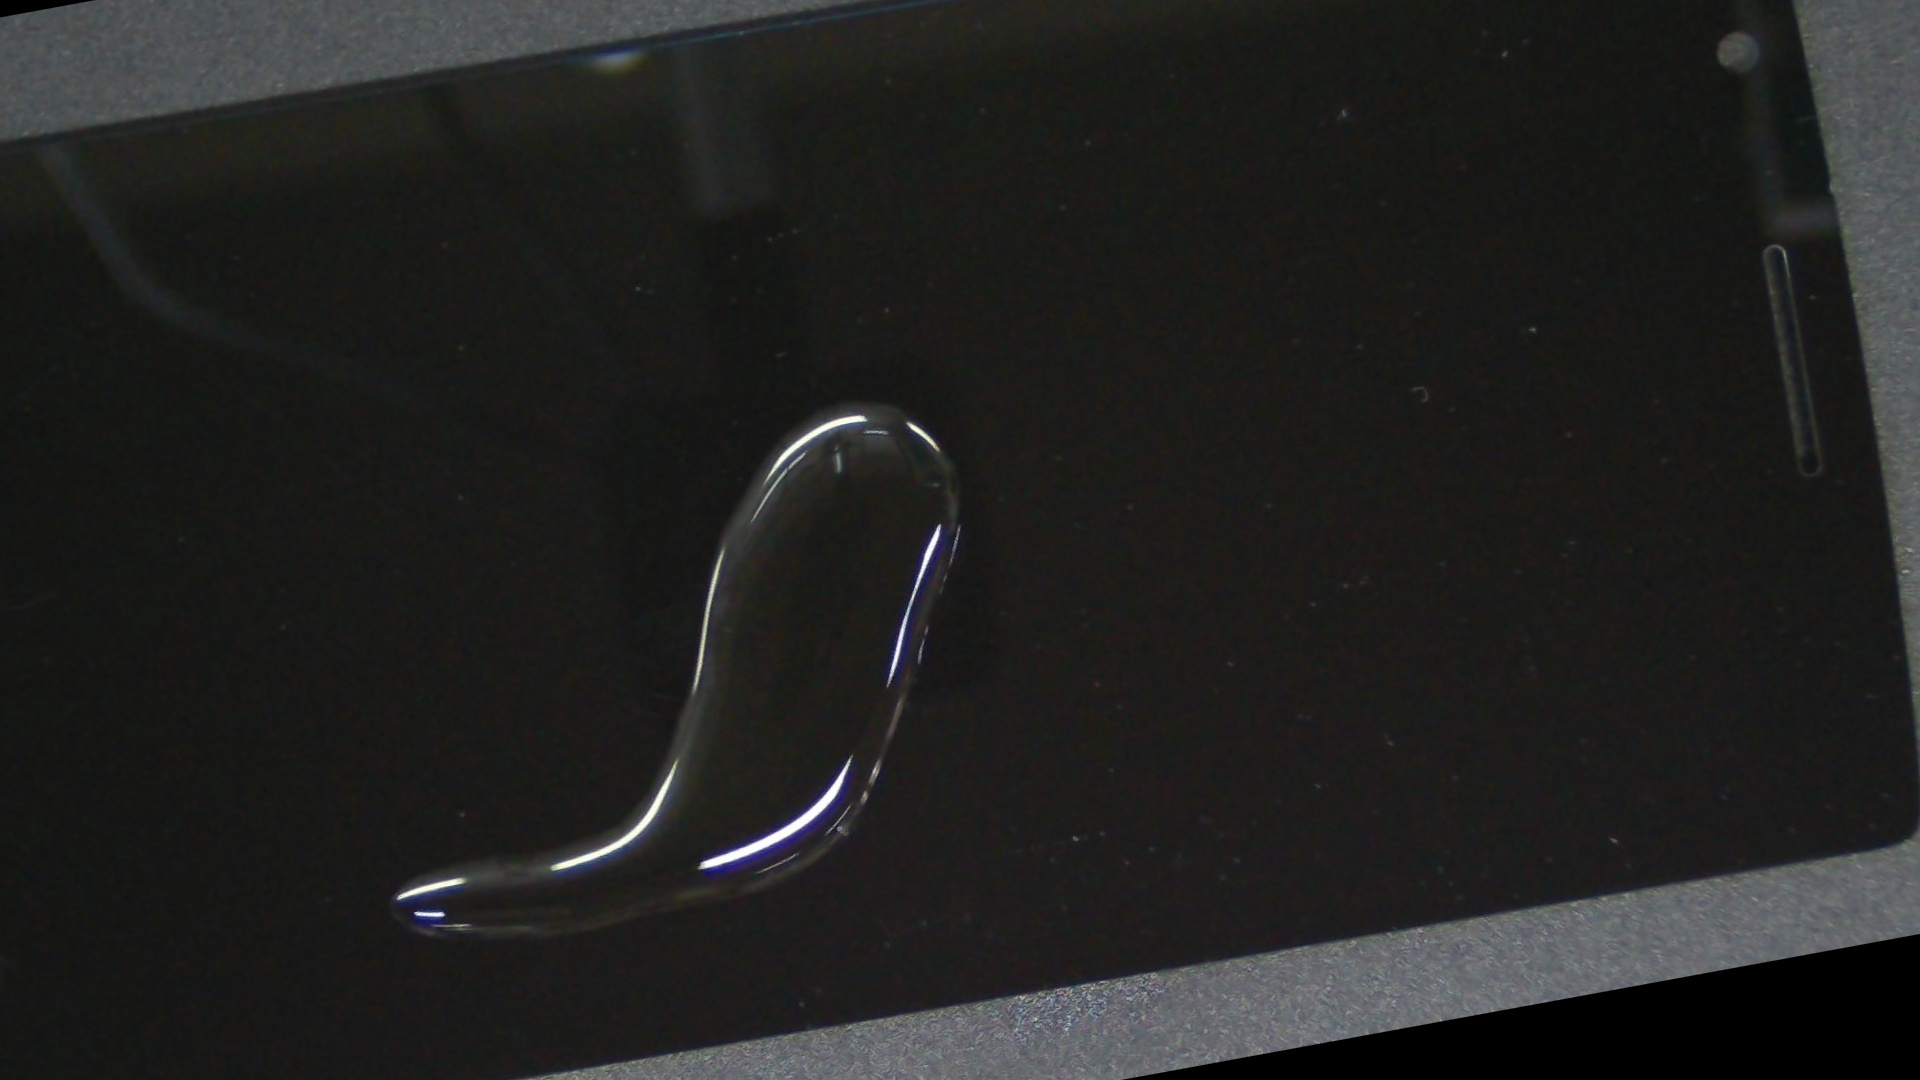oil: (231, 45, 1414, 766)
